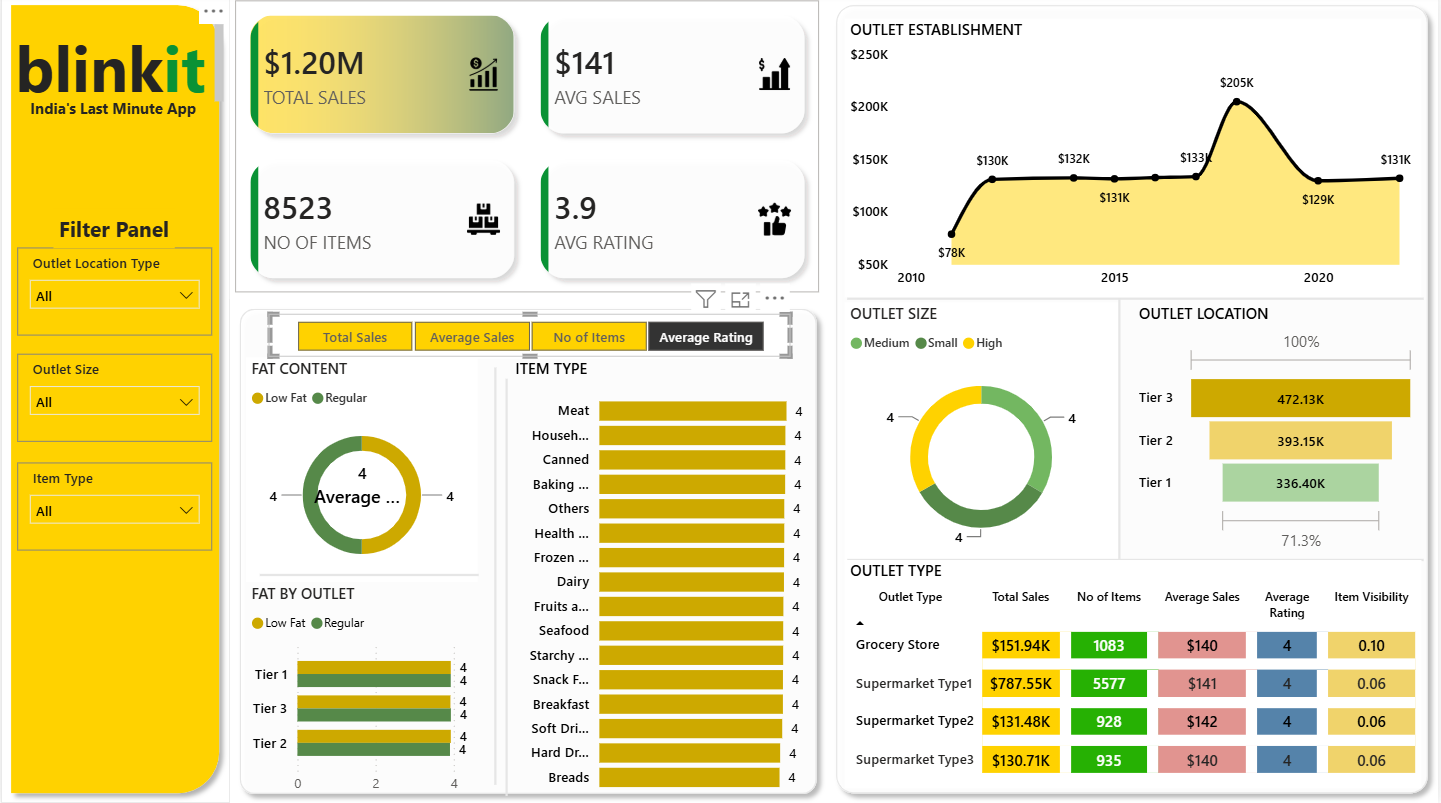

The dashboard page shown, as its layout file describes it:
{"tool":"powerbi","page":{"name":"Page 1","canvas":[1280,720],"ordinal":0},"visuals":[{"type":"shape","box":[0,0,203.3,720],"z":0},{"type":"textbox","box":[8.3,21.7,195,81.7],"z":1000},{"type":"textbox","box":[21.7,86.7,160,31.7],"z":2000},{"type":"cardVisual","fields":{"Data":["BlinkIT Grocery Data.Total Sales","BlinkIT Grocery Data.Average Sales","BlinkIT Grocery Data.No of Items","BlinkIT Grocery Data.Average Rating"]},"box":[203.3,0,531.7,270],"z":3000},{"type":"shape","box":[203.3,270,531.7,450],"z":4000},{"type":"donutChart","title":"FAT CONTENT","fields":{"Y":["BlinkIT Grocery Data.Total Sales"],"Category":["BlinkIT Grocery Data.Item Fat Content"]},"box":[218.3,323.3,206.7,200],"z":5000},{"type":"slicer","fields":{"Values":["Metrics.Metrics"]},"box":[238.3,283.3,465,40],"z":6000},{"type":"cardVisual","fields":{"Data":["BlinkIT Grocery Data.Total Sales"]},"box":[253.3,398.3,136.7,76.7],"z":7000},{"type":"clusteredBarChart","title":"FAT BY OUTLET","fields":{"Y":["BlinkIT Grocery Data.Total Sales"],"Category":["BlinkIT Grocery Data.Outlet Location Type"],"Series":["BlinkIT Grocery Data.Item Fat Content"]},"box":[218.3,523.3,206.7,196.7],"z":8000},{"type":"shape","box":[230,510,195,13.3],"z":9000},{"type":"shape","box":[425,331.7,30,371.7],"z":10000},{"type":"barChart","title":"ITEM TYPE","fields":{"Y":["BlinkIT Grocery Data.Total Sales"],"Category":["BlinkIT Grocery Data.Item Type"]},"box":[453.3,323.3,266.7,396.7],"z":11000},{"type":"shape","box":[735,0,545,720],"z":12000},{"type":"lineChart","title":"OUTLET ESTABLISHMENT","fields":{"Category":["BlinkIT Grocery Data.Outlet Establishment Year"],"Y":["BlinkIT Grocery Data.Total Sales"]},"box":[751.7,21.7,513.3,248.3],"z":13000},{"type":"shape","box":[753.3,263.3,513.3,13.3],"z":14000},{"type":"donutChart","title":"OUTLET SIZE","fields":{"Y":["BlinkIT Grocery Data.Total Sales"],"Category":["BlinkIT Grocery Data.Outlet Size"]},"box":[751.7,273.3,243.3,230],"z":15000},{"type":"funnel","title":"OUTLET LOCATION","fields":{"Y":["Sum(BlinkIT Grocery Data.Sales)"],"Category":["BlinkIT Grocery Data.Outlet Location Type"]},"box":[1008.3,273.3,256.7,228.3],"z":16000},{"type":"shape","box":[435,341.7,30,371.7],"z":17000},{"type":"shape","box":[981.7,270,28.3,231.7],"z":18000},{"type":"shape","box":[753.3,496.7,513.3,13.3],"z":19000},{"type":"pivotTable","title":"OUTLET TYPE","fields":{"Rows":["BlinkIT Grocery Data.Outlet Type"],"Values":["BlinkIT Grocery Data.Total Sales","BlinkIT Grocery Data.No of Items","BlinkIT Grocery Data.Average Sales","BlinkIT Grocery Data.Average Rating","Avg(BlinkIT Grocery Data.Item Visibility)"]},"box":[751.7,503.3,513.3,203.3],"z":20000},{"type":"slicer","fields":{"Values":["BlinkIT Grocery Data.Outlet Location Type"]},"box":[15,225,173.3,78.3],"z":21000},{"type":"slicer","fields":{"Values":["BlinkIT Grocery Data.Outlet Size"]},"box":[15,320,173.3,78.3],"z":22000},{"type":"slicer","fields":{"Values":["BlinkIT Grocery Data.Item Type"]},"box":[15,416.7,173.3,78.3],"z":23000},{"type":"textbox","box":[46.7,190,108.3,35],"z":24000}]}

Visuals, with their boxes in screenshot pixels (x1, y1, x2, y2), scaled from the page's 1280x720 canvas onto the 1441x803 screenshot:
shape: left=0, top=0, right=229, bottom=802
textbox: left=9, top=24, right=229, bottom=115
textbox: left=24, top=97, right=205, bottom=132
cardVisual - BlinkIT Grocery Data.Total Sales x BlinkIT Grocery Data.Average Sales: left=229, top=0, right=827, bottom=301
shape: left=229, top=301, right=827, bottom=802
"FAT CONTENT" donutChart: left=246, top=361, right=478, bottom=584
slicer - Metrics.Metrics: left=268, top=316, right=792, bottom=361
cardVisual - BlinkIT Grocery Data.Total Sales: left=285, top=444, right=439, bottom=530
"FAT BY OUTLET" clusteredBarChart: left=246, top=584, right=478, bottom=802
shape: left=259, top=569, right=478, bottom=584
shape: left=478, top=370, right=512, bottom=784
"ITEM TYPE" barChart: left=510, top=361, right=811, bottom=802
shape: left=827, top=0, right=1440, bottom=802
"OUTLET ESTABLISHMENT" lineChart: left=846, top=24, right=1424, bottom=301
shape: left=848, top=294, right=1426, bottom=308
"OUTLET SIZE" donutChart: left=846, top=305, right=1120, bottom=561
"OUTLET LOCATION" funnel: left=1135, top=305, right=1424, bottom=559
shape: left=490, top=381, right=523, bottom=796
shape: left=1105, top=301, right=1137, bottom=560
shape: left=848, top=554, right=1426, bottom=569
"OUTLET TYPE" pivotTable: left=846, top=561, right=1424, bottom=788
slicer - BlinkIT Grocery Data.Outlet Location Type: left=17, top=251, right=212, bottom=338
slicer - BlinkIT Grocery Data.Outlet Size: left=17, top=357, right=212, bottom=444
slicer - BlinkIT Grocery Data.Item Type: left=17, top=465, right=212, bottom=552
textbox: left=53, top=212, right=174, bottom=251
